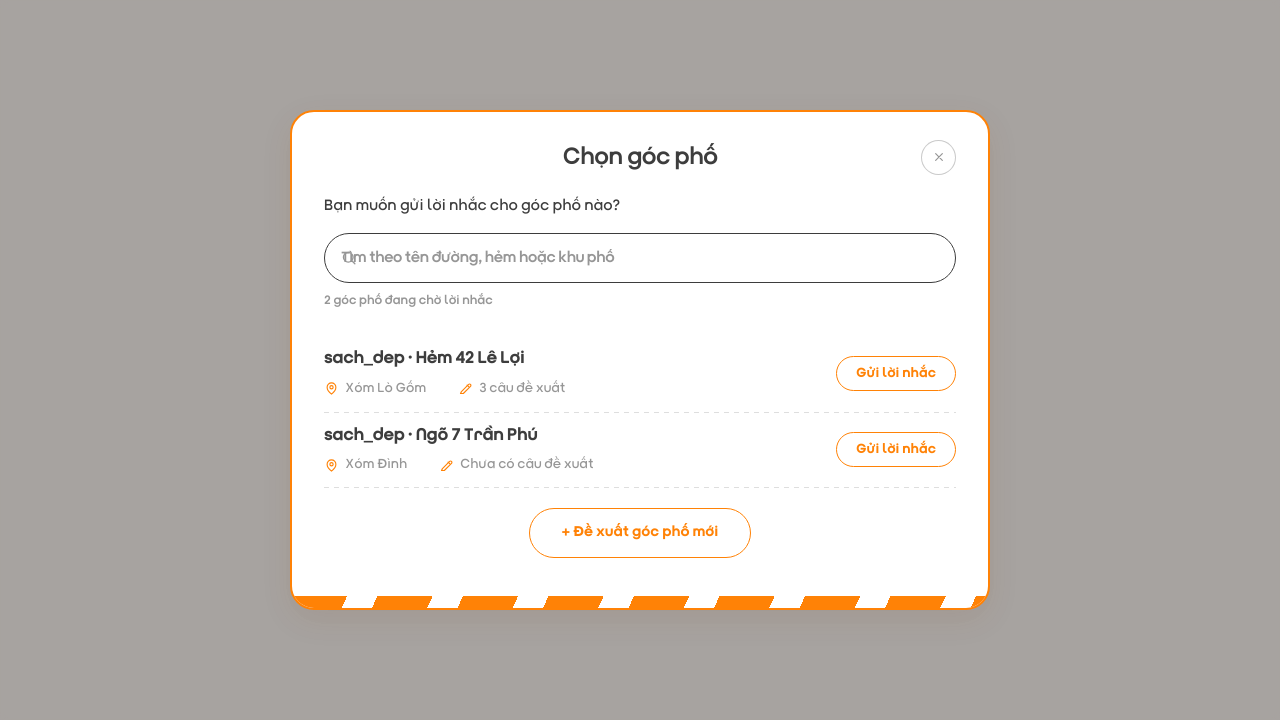
Test: SpotPickerModal — thiết kế tự dựng (chốt 5/9) › không khớp gì thì mời đổi từ khoá / đề xuất góc mới
Type "zzz" into the field named "Tìm góc phố" at (640, 258), box [324, 233, 956, 283]
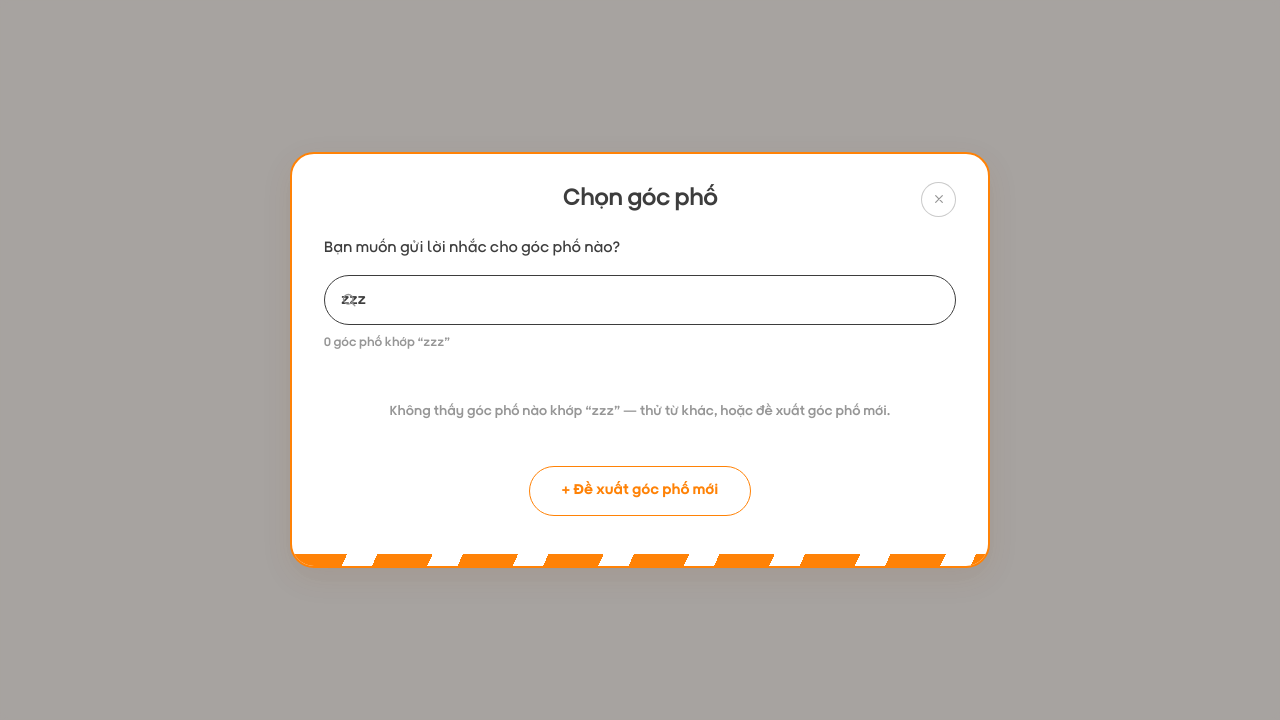
Expected: the button "+ Đề xuất góc phố mới" is shown, [529, 466, 751, 516]
Result: the text "Không thấy góc phố nào khớp" is shown at [390, 404, 592, 419]
